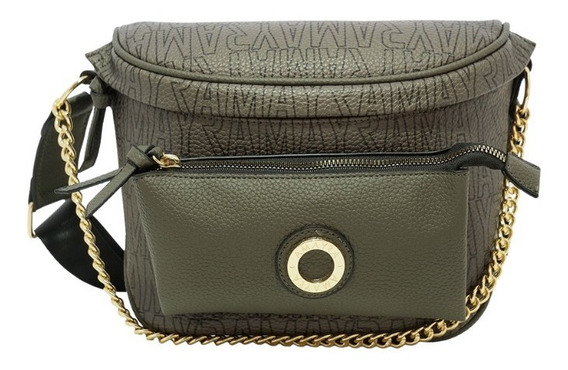cartera: (26, 15, 543, 349)
